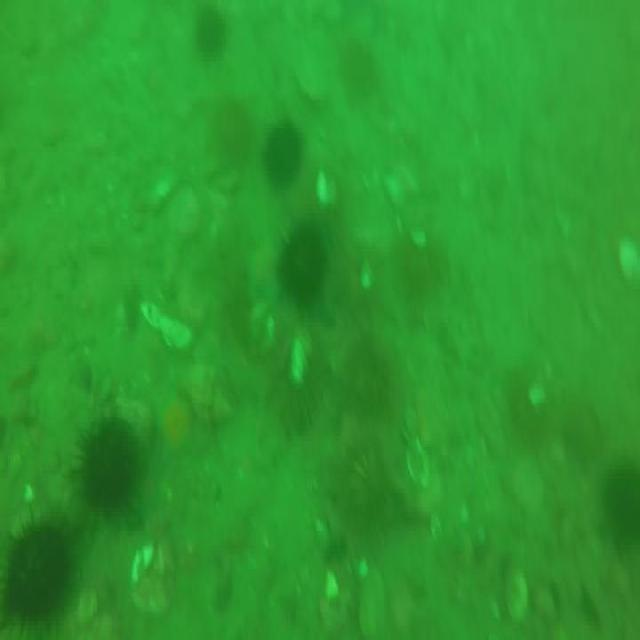echinus: (0, 510, 70, 621), (73, 417, 137, 522), (273, 322, 323, 437), (340, 328, 392, 424), (509, 356, 558, 456), (343, 441, 390, 537), (275, 228, 329, 304), (603, 461, 640, 546), (262, 114, 302, 190), (195, 8, 228, 60)
scallop: (407, 433, 430, 498), (503, 575, 528, 618), (618, 237, 636, 284), (384, 177, 407, 207), (360, 262, 372, 290), (411, 224, 425, 247)
starfish: (154, 379, 194, 466)
